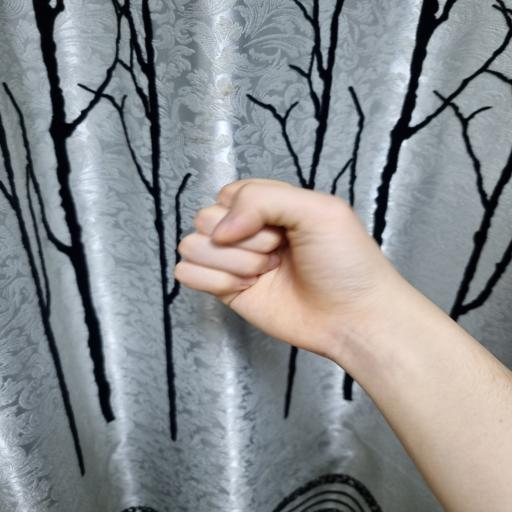Rock: (176, 178, 393, 346)
